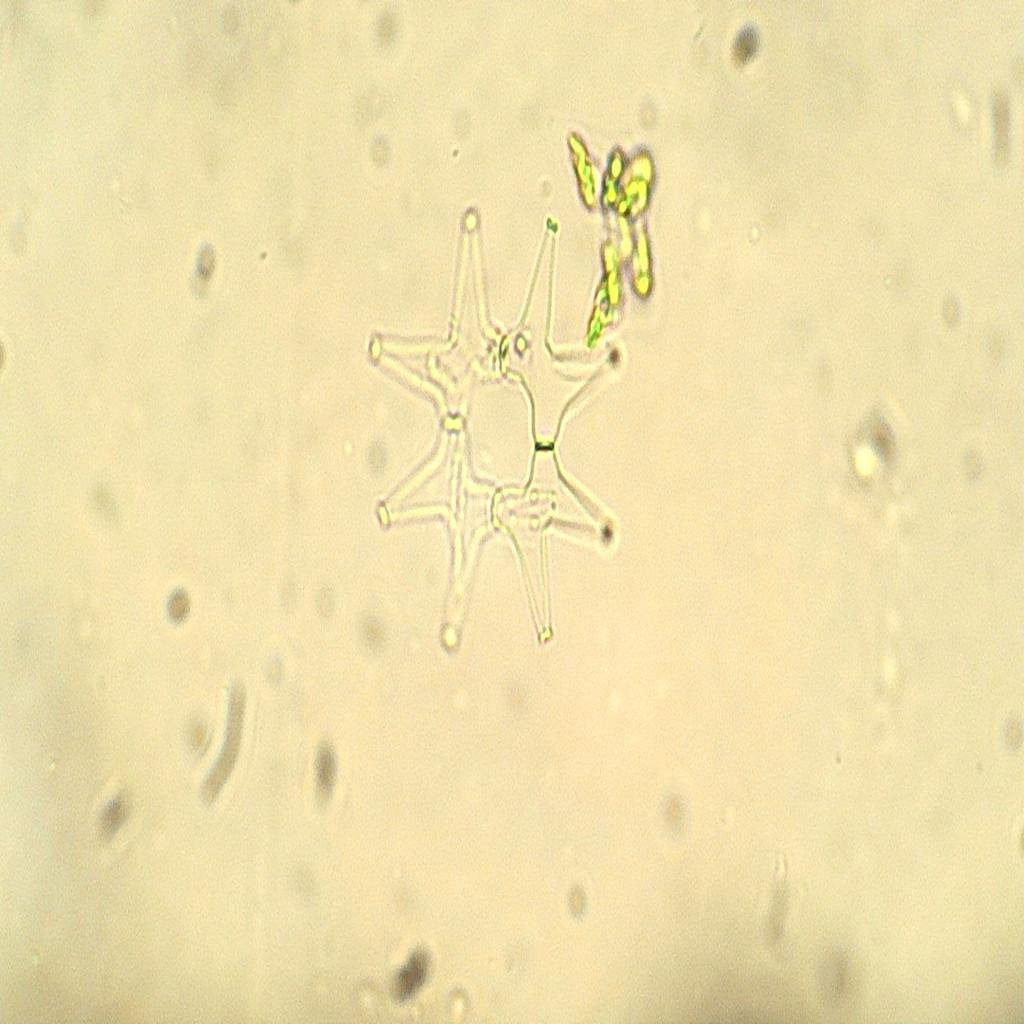Pediastrum_1F0: (346, 165, 639, 691)
